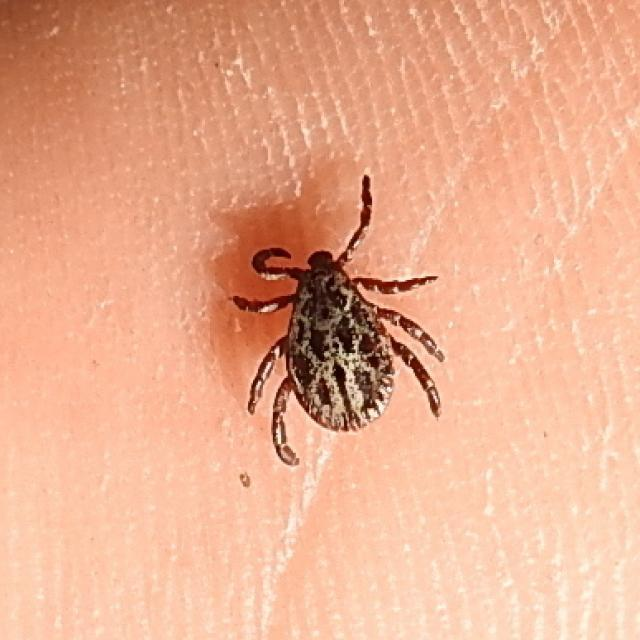Dermacentor Reticulatus-M: (230, 173, 447, 464)
